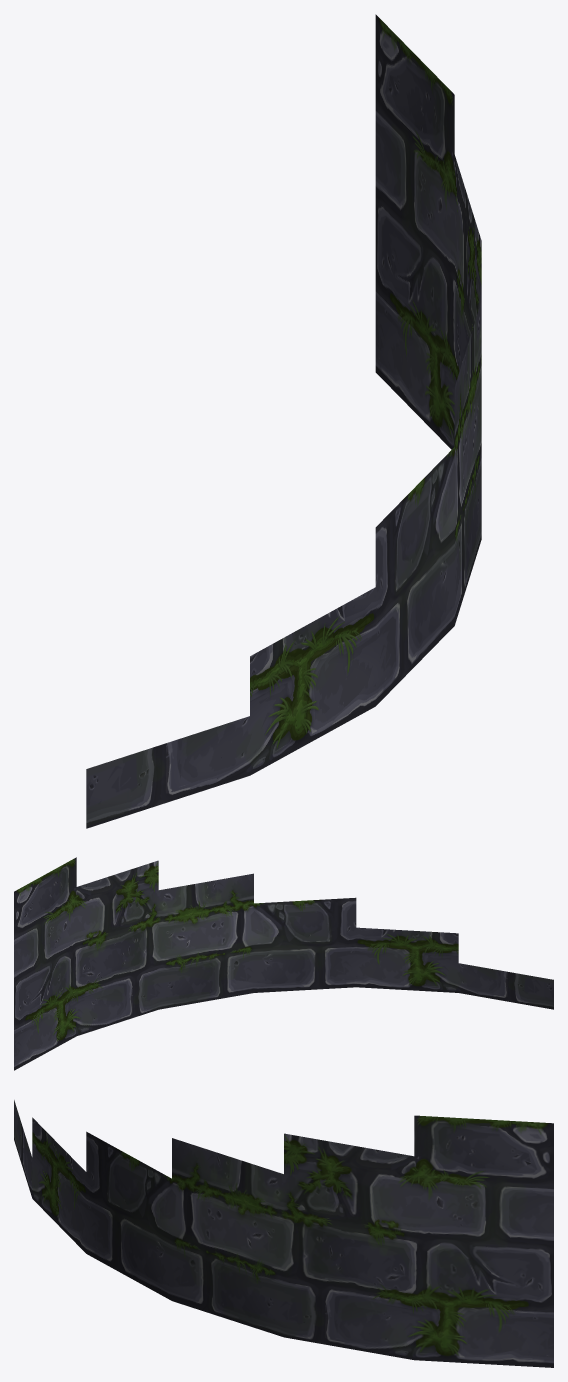
File: MOD_Stairs_01_med_SW_wall.fbx
3 renders of one model, top to bottom at view 1: azimuth 30°, elevation 25°; view 2: azimuth 150°, elevation 25°; view 3: azimuth 270°, elevation 25°, orthographic. The views are drawn at different scales.
Visible parts, largest first — view 1: MOD_Stairs_01_med_SW_wall; view 2: MOD_Stairs_01_med_SW_wall; view 3: MOD_Stairs_01_med_SW_wall.
Part boxes in pixels (x1=…): MOD_Stairs_01_med_SW_wall: x1=86, y1=14, x2=481, y2=828; MOD_Stairs_01_med_SW_wall: x1=14, y1=857, x2=553, y2=1070; MOD_Stairs_01_med_SW_wall: x1=14, y1=1100, x2=553, y2=1367.
Size of what is drawn, in the model's own units: 400 by 200 by 400.
